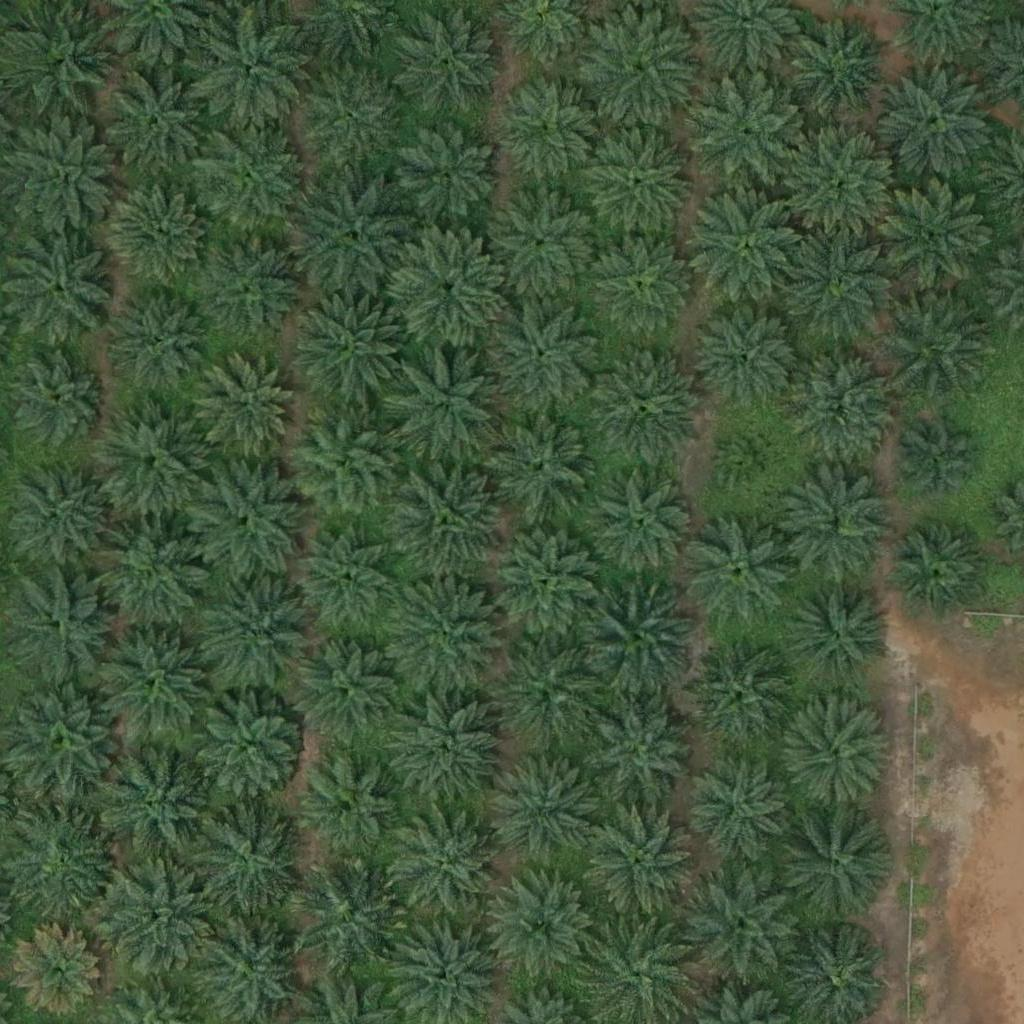Kelapa_Sawit: (785, 348, 898, 462), (691, 189, 804, 303), (286, 405, 399, 519), (391, 463, 504, 577), (391, 581, 504, 695), (490, 637, 603, 751), (491, 752, 604, 866), (789, 129, 902, 242), (783, 224, 896, 337), (694, 80, 807, 193), (586, 13, 699, 126), (393, 232, 506, 345), (390, 344, 503, 457), (294, 62, 407, 175), (299, 181, 412, 294), (292, 293, 405, 406), (196, 15, 309, 128), (1, 117, 114, 230), (1, 233, 114, 346), (6, 571, 119, 684), (6, 685, 119, 798), (96, 626, 209, 739), (98, 752, 211, 865), (101, 862, 214, 975), (387, 694, 500, 807), (394, 812, 507, 925), (487, 871, 600, 984), (683, 515, 796, 628), (680, 637, 793, 750), (779, 472, 892, 585), (783, 576, 896, 689), (783, 699, 896, 812), (778, 811, 891, 924), (587, 127, 699, 241), (390, 8, 502, 122), (492, 527, 604, 641), (584, 692, 696, 806), (583, 809, 695, 923), (686, 870, 798, 984), (879, 66, 991, 179), (884, 178, 996, 291), (883, 285, 995, 398), (589, 353, 701, 466), (488, 190, 600, 303), (492, 300, 604, 413), (197, 121, 309, 234), (195, 234, 307, 347), (99, 63, 211, 176), (5, 11, 117, 124), (7, 807, 119, 920), (92, 404, 204, 517), (95, 520, 207, 633), (194, 464, 306, 577), (200, 576, 312, 689), (194, 688, 306, 801), (189, 801, 301, 914), (293, 631, 405, 744), (290, 861, 402, 974), (486, 409, 598, 522), (584, 585, 696, 698), (794, 17, 894, 118), (198, 353, 298, 454), (106, 185, 206, 286), (111, 291, 211, 392), (302, 754, 402, 855), (594, 474, 694, 575), (699, 306, 799, 406), (592, 237, 692, 337), (498, 83, 598, 183), (401, 127, 501, 227), (297, 532, 397, 632), (689, 757, 789, 857), (894, 528, 982, 617), (13, 927, 101, 1015), (903, 428, 978, 504), (720, 431, 782, 494)
